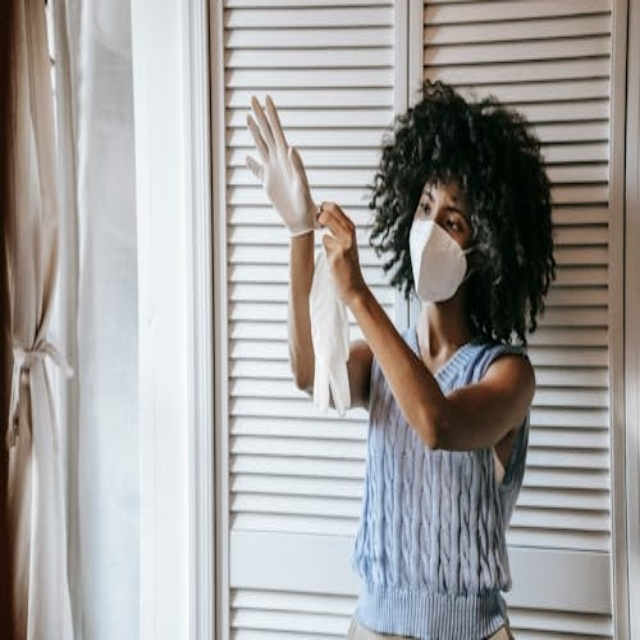Guantes: (242, 85, 320, 236)
Mascara: (408, 214, 477, 304)
Sin_gafas: (417, 186, 466, 244)
Sin_guantes: (312, 192, 366, 294)
